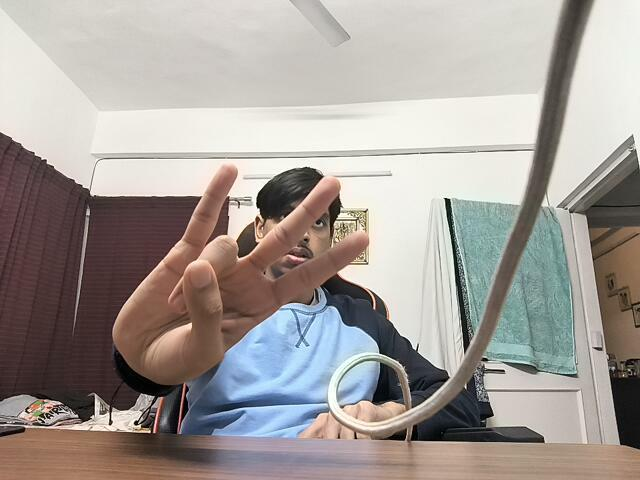BACKWARD: (102, 158, 374, 396)
